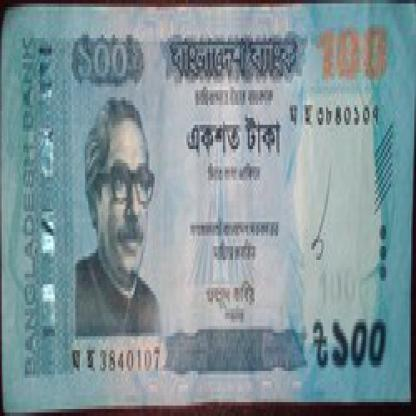one hundred taka: (310, 24, 392, 87), (72, 28, 140, 90), (328, 309, 388, 374)
